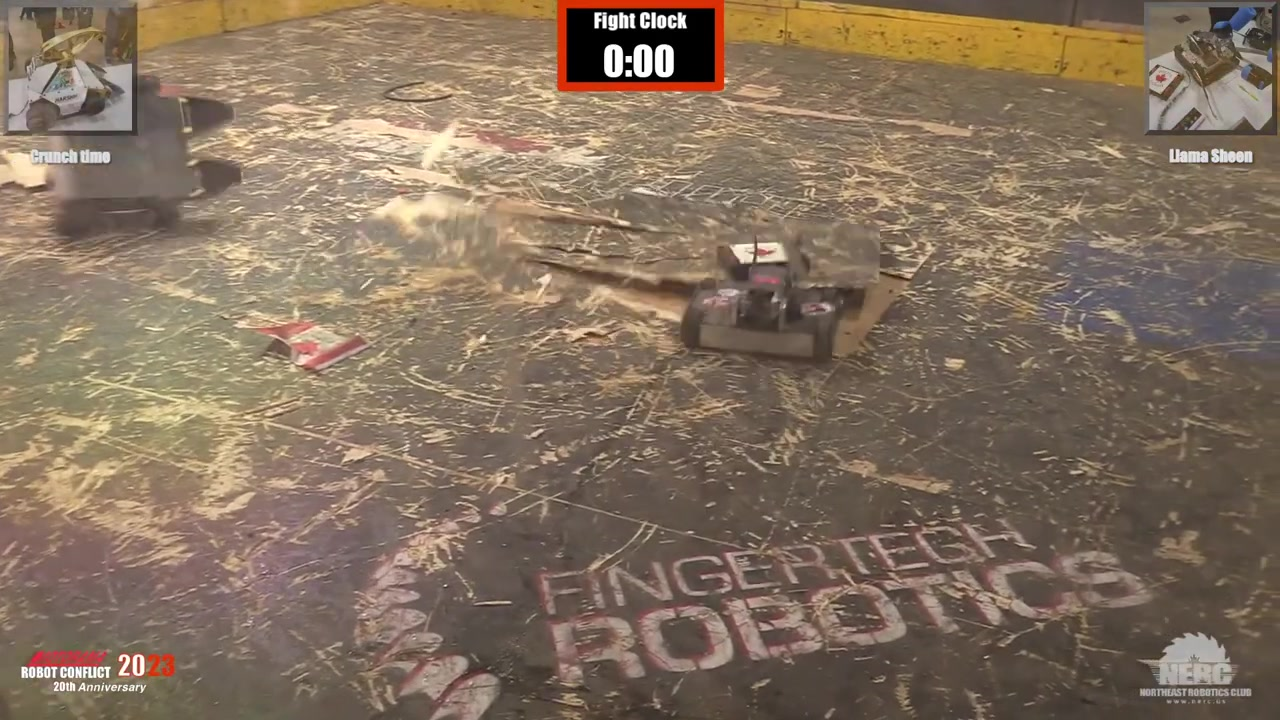belt: (385, 81, 451, 107)
combatbot: (59, 94, 198, 221), (681, 278, 832, 363)
debris: (259, 319, 368, 373)
minibot: (721, 241, 803, 274)
